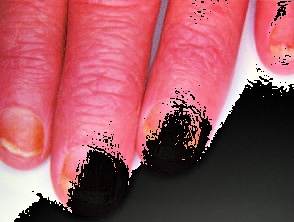Nail_psoriasis: (47, 130, 149, 221), (137, 89, 211, 160), (0, 102, 47, 160), (267, 16, 294, 64)
